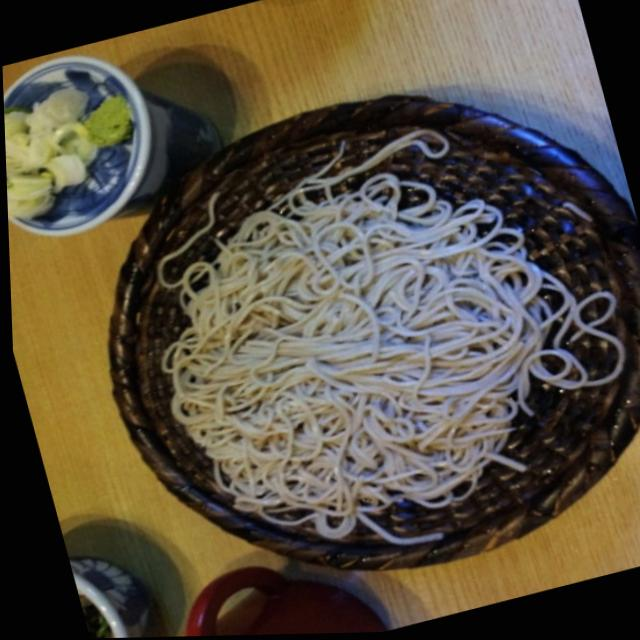面条主食: (39, 37, 640, 639)
